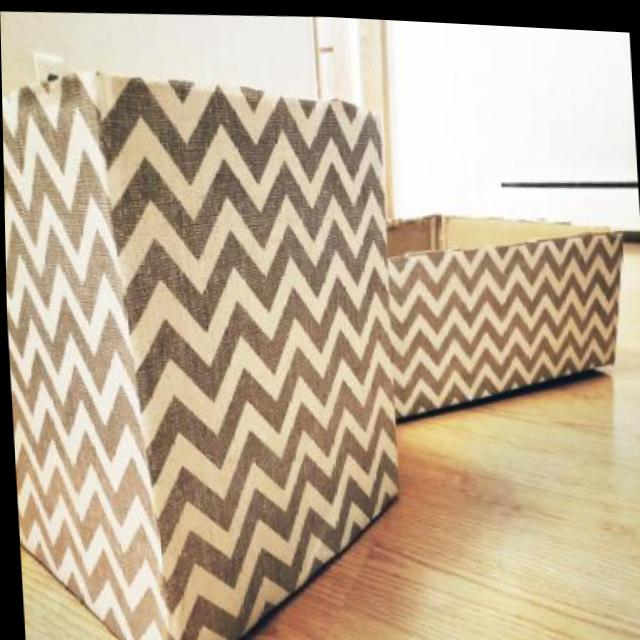box: (1, 31, 640, 640)
